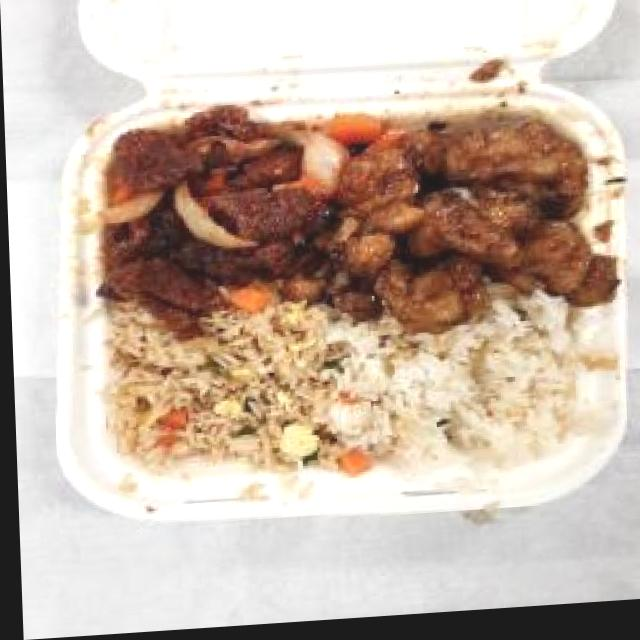Beijing Beef: (76, 103, 326, 326)
Fried Rice: (102, 308, 340, 488)
The Original Orange Chicken: (294, 106, 616, 348)
White Steamed Rice: (328, 313, 576, 483)
